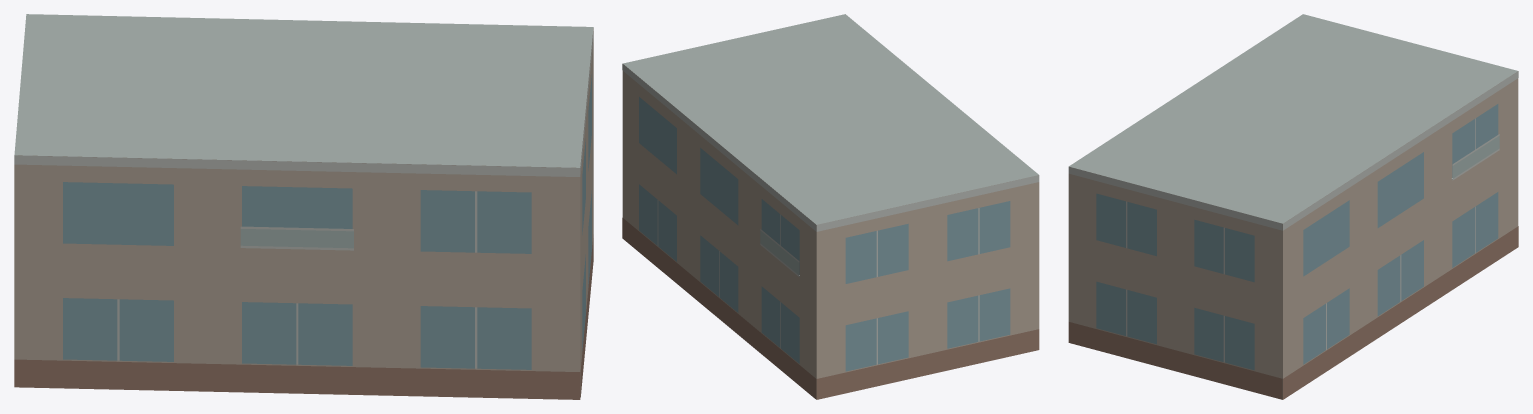
The model's file is survey-upis-32795842.glb.
3 views of the same model, side by side, from view 1: azimuth 30°, elevation 25°; view 2: azimuth 150°, elevation 25°; view 3: azimuth 270°, elevation 25° (orthographic). The views are drawn at different scales.
Visible parts, largest first — view 1: survey-upis-32795842.tmp; view 2: survey-upis-32795842.tmp; view 3: survey-upis-32795842.tmp.
Boxes of the visible parts, x1=… form: survey-upis-32795842.tmp: x1=14, y1=14, x2=593, y2=399; survey-upis-32795842.tmp: x1=622, y1=14, x2=1039, y2=399; survey-upis-32795842.tmp: x1=1068, y1=14, x2=1518, y2=399.
Bounding box in the file's own units: 15.58 × 6.1 × 14.12.
